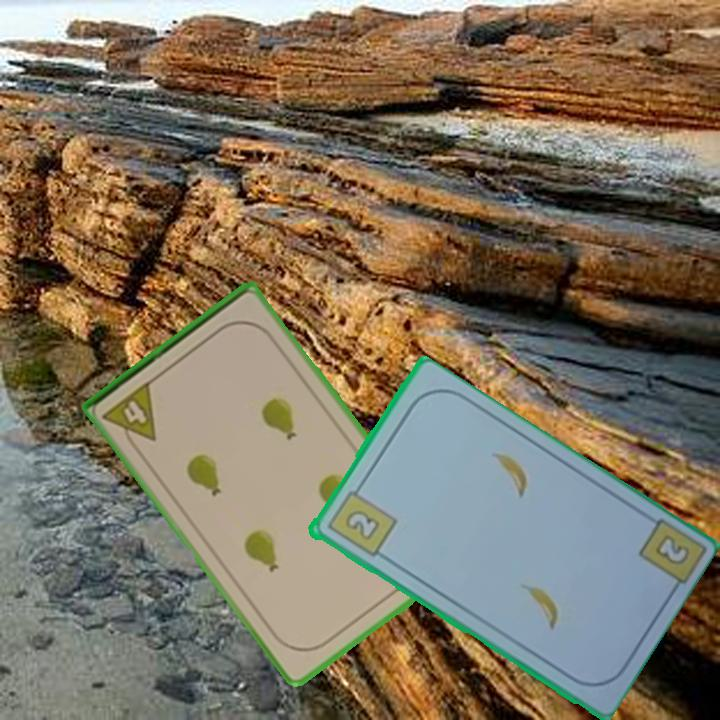2b: (323, 480, 399, 560), (651, 531, 693, 569)
4p: (98, 377, 160, 455)
